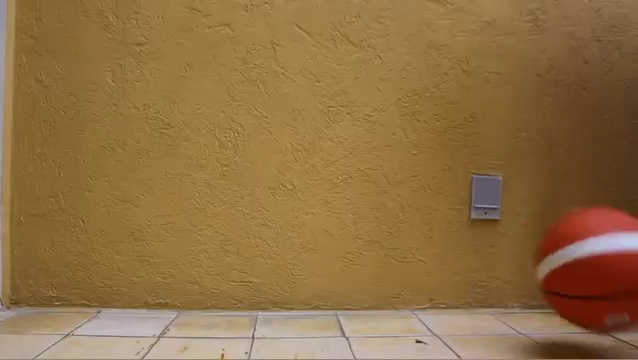ball: (532, 204, 636, 339)
